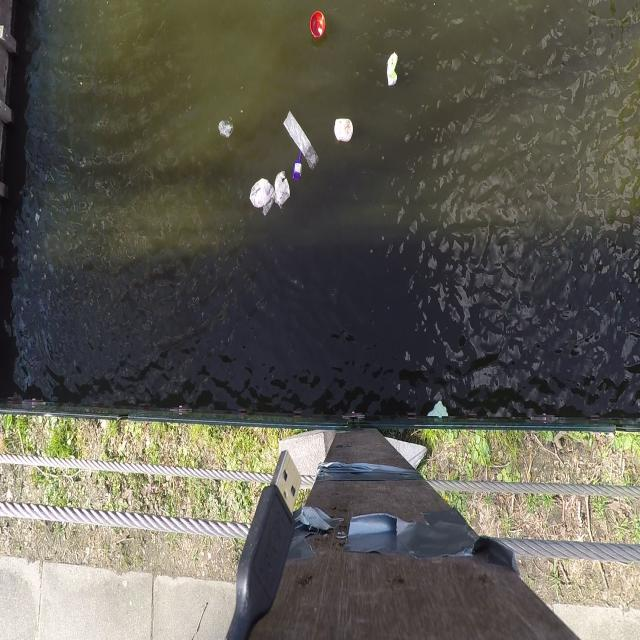Autre plastique: (308, 7, 329, 41)
Bouteille plastique: (293, 149, 305, 186)
Sac plastique: (250, 178, 278, 217), (274, 169, 292, 213), (216, 117, 238, 143)
